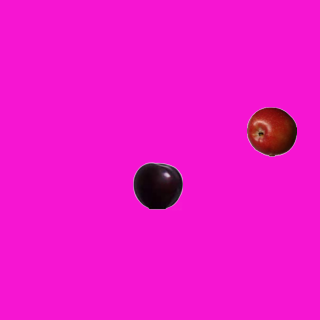Apple Braeburn: (246, 106, 296, 156)
Cherry Wax Black: (132, 160, 182, 210)
